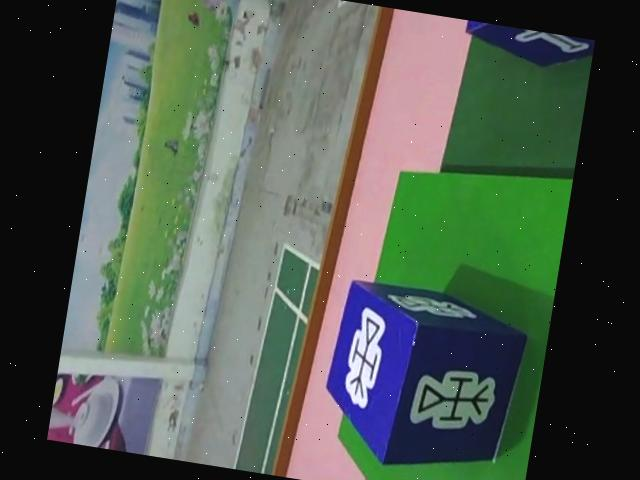R2 Real Blue: (309, 272, 536, 480), (463, 21, 595, 74)
